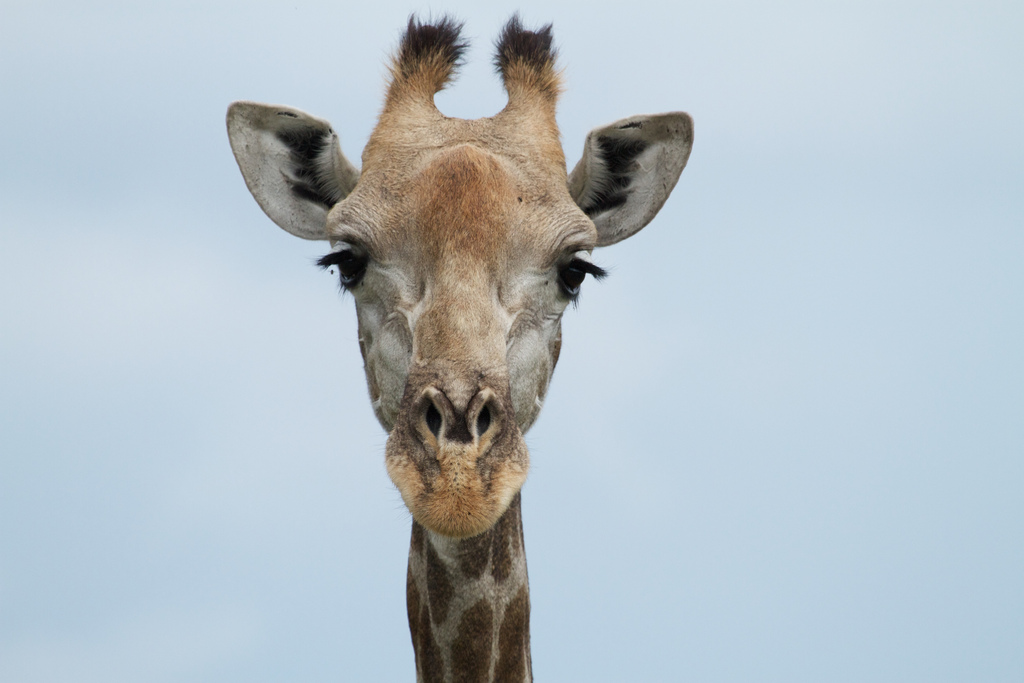giraffe: (231, 28, 700, 660)
